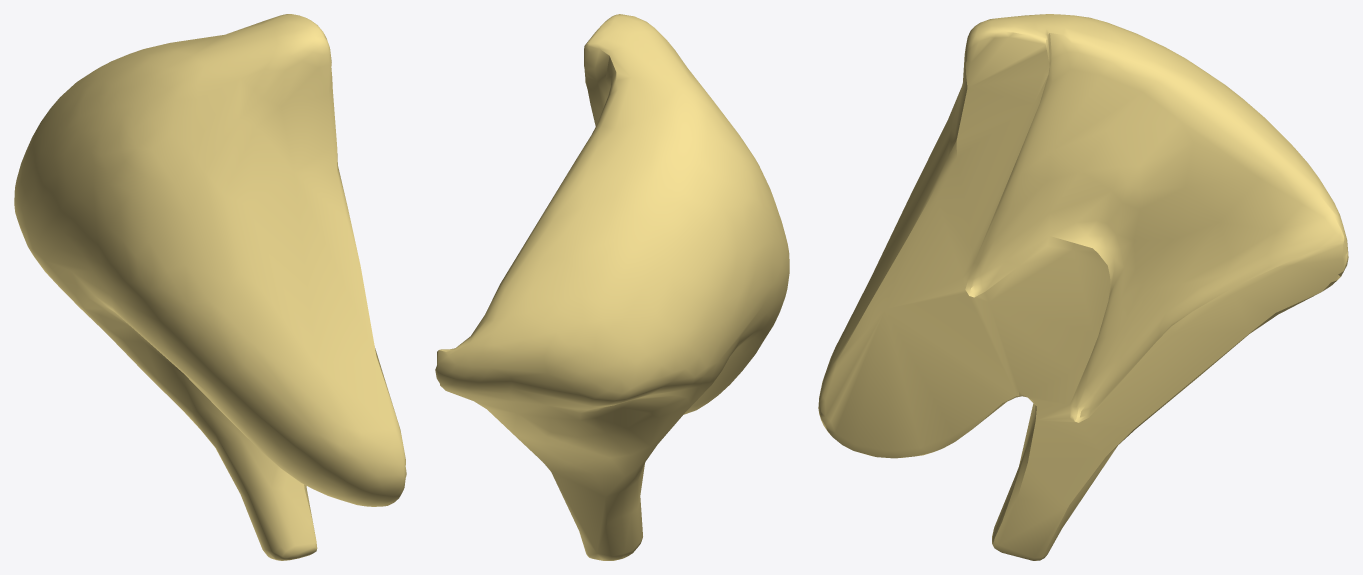
The model's file is fma62008_fj1808.glb.
3 renders of one model, left to right at view 1: azimuth 30°, elevation 25°; view 2: azimuth 150°, elevation 25°; view 3: azimuth 270°, elevation 25°, orthographic. The views are drawn at different scales.
Parts seen in each view (by area): view 1: FMA62008_FJ1808; view 2: FMA62008_FJ1808; view 3: FMA62008_FJ1808.
Boxes of the visible parts, x1,y1,x2,y2 form: FMA62008_FJ1808: (14,14,406,560); FMA62008_FJ1808: (435,14,789,560); FMA62008_FJ1808: (818,14,1348,560).
Size of the model in its own units: 0.00762 by 0.0199 by 0.0179.
